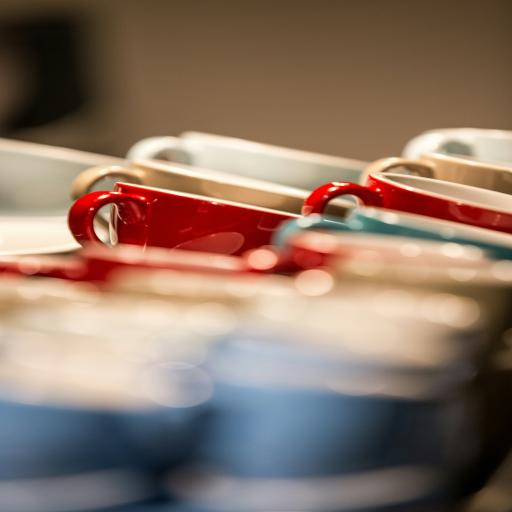cup: (68, 181, 304, 257), (302, 171, 512, 233)
